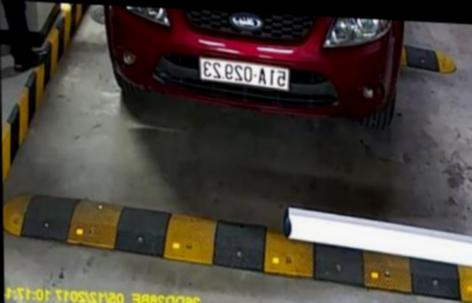License_Plate: (192, 53, 296, 94)
